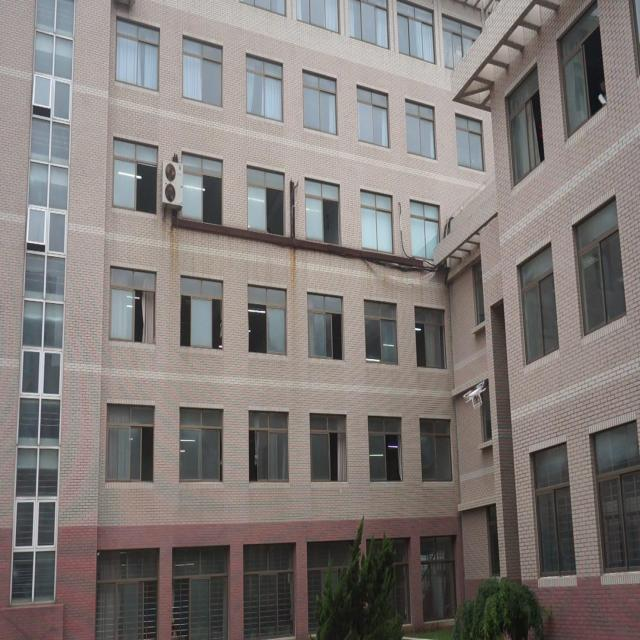UAV: (463, 381, 487, 408)
